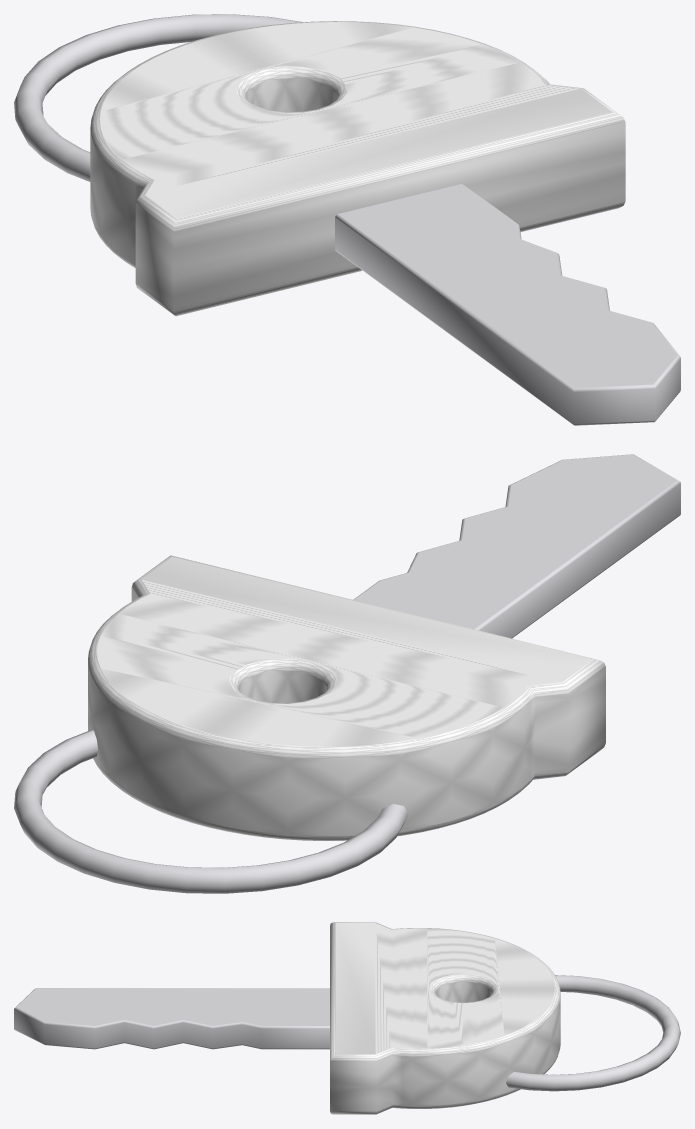
File: SM_ElevatorKey.fbx
3 renders of one model, top to bottom at view 1: azimuth 30°, elevation 25°; view 2: azimuth 150°, elevation 25°; view 3: azimuth 270°, elevation 25°, orthographic. The views are drawn at different scales.
Parts seen in each view (by area): view 1: Cover, Blade, Ring; view 2: Cover, Blade, Ring; view 3: Cover, Blade, Ring.
Part boxes in pixels (box(x1,y1,x2,y2)): Cover: box(90, 21, 625, 316); Blade: box(335, 184, 680, 425); Ring: box(14, 14, 302, 181); Cover: box(88, 555, 605, 840); Blade: box(353, 454, 680, 638); Ring: box(14, 730, 408, 893); Cover: box(330, 922, 560, 1114); Blade: box(14, 988, 329, 1049); Ring: box(506, 975, 680, 1091).
Bounding box in the file's own units: 0.0328 × 0.0067 × 0.0678.
Materials: 2 (1 with a texture image).
